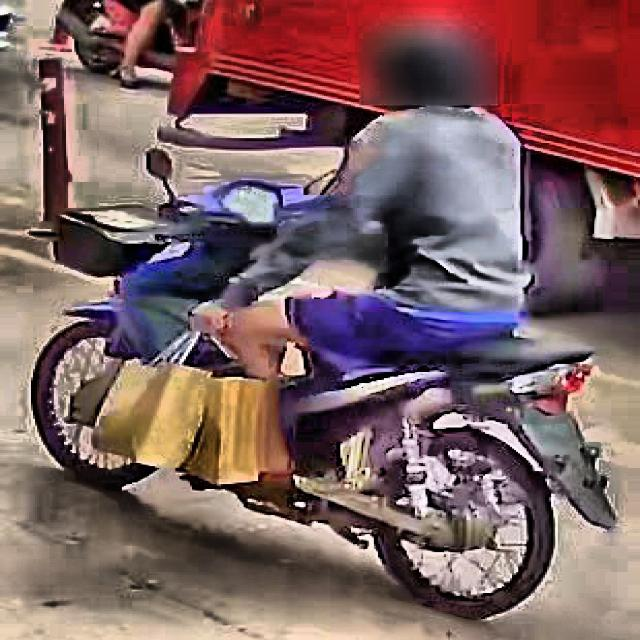motorcycle: (31, 138, 640, 629)
